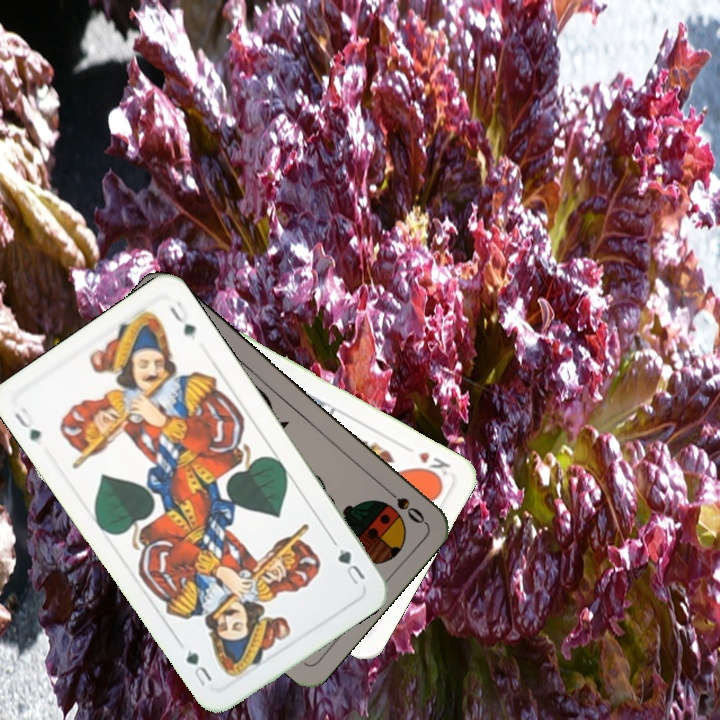GU: (333, 544, 368, 588), (10, 402, 44, 446)
HK: (413, 447, 453, 484)
SO: (379, 482, 428, 526)
